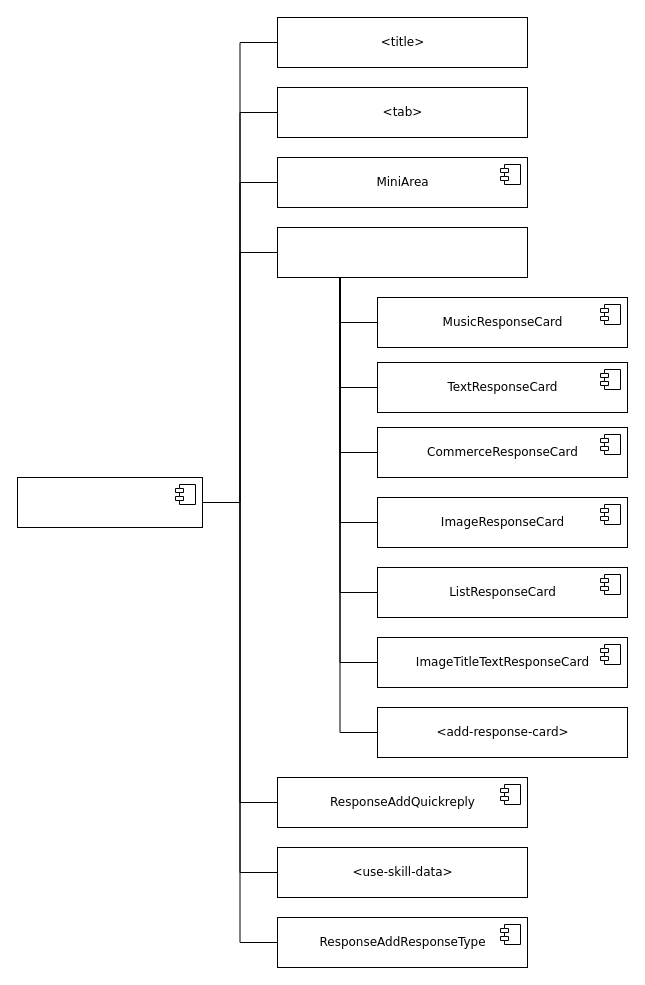
This 645x985 diagram has some shape labels left out. The shapes that lost their labels are listed below. From the top down, each one's centre as x and y in pixels, then its label:
At pixel 402 252: "<ng-for-response-groups>".
At pixel 109 502: "Response".
